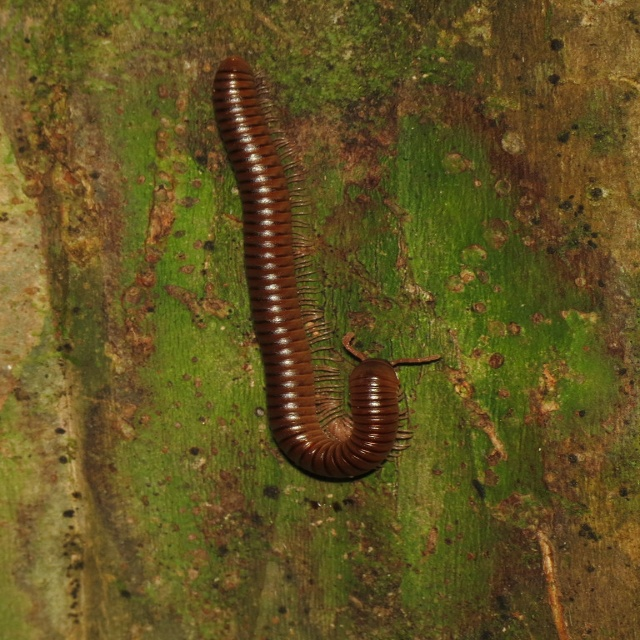Centipede: (206, 52, 441, 480)
